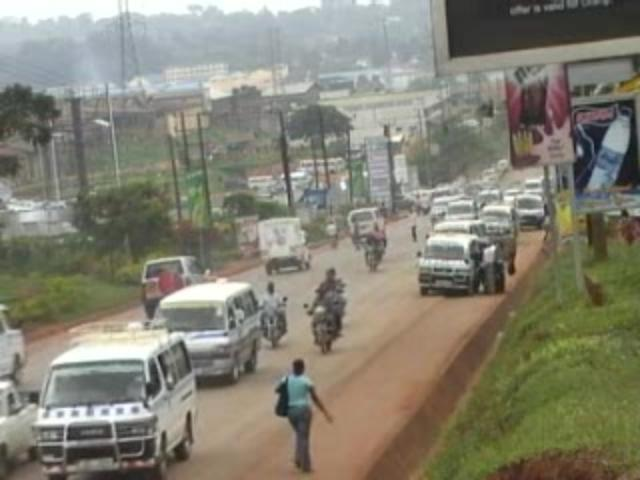motorcycle: (311, 267, 344, 330), (260, 282, 286, 333), (357, 235, 385, 271)
truck: (255, 217, 312, 271)
van: (29, 326, 195, 478), (153, 281, 262, 384), (417, 232, 490, 295), (140, 255, 204, 319), (476, 208, 521, 272), (432, 219, 490, 250), (347, 207, 384, 241), (512, 193, 546, 228), (442, 198, 478, 224), (430, 195, 457, 223), (476, 189, 502, 209), (524, 177, 545, 195)
